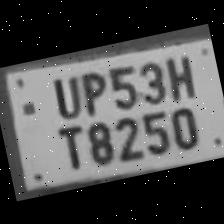0: (163, 98, 204, 153)
2: (106, 110, 144, 164)
3: (131, 55, 168, 106)
5: (100, 58, 142, 110), (136, 104, 172, 157)
8: (78, 116, 116, 170)
H: (160, 48, 200, 104)
P: (72, 66, 110, 116)
T: (47, 118, 89, 174)
U: (44, 70, 83, 121)
